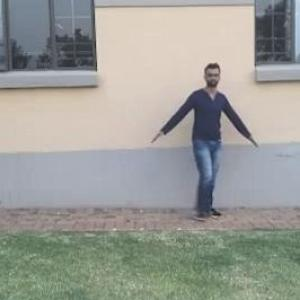land: (146, 69, 252, 232)
